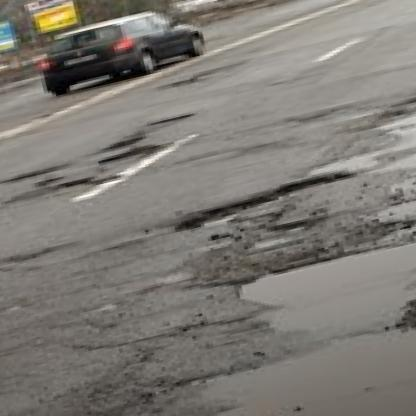pothole: (174, 167, 361, 236), (97, 138, 168, 165), (0, 161, 69, 184), (262, 213, 323, 238), (143, 108, 206, 129), (105, 132, 144, 152), (54, 174, 96, 192), (87, 172, 121, 186), (37, 172, 61, 186)
